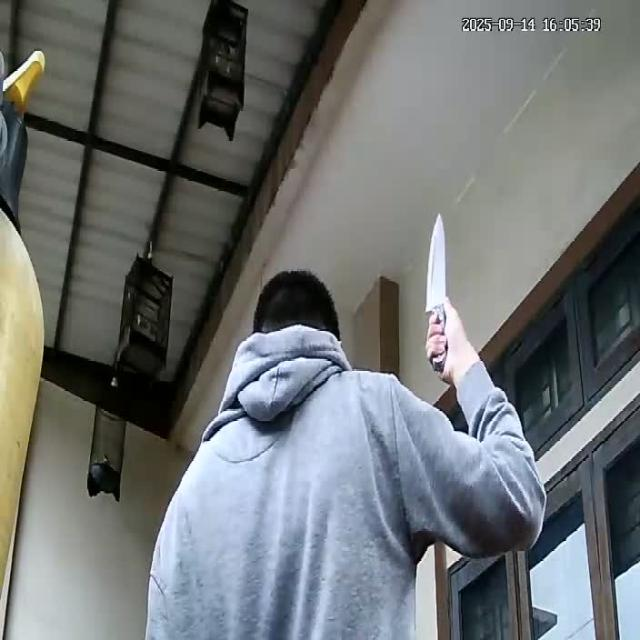senjata_tajam: (425, 212, 448, 316)
